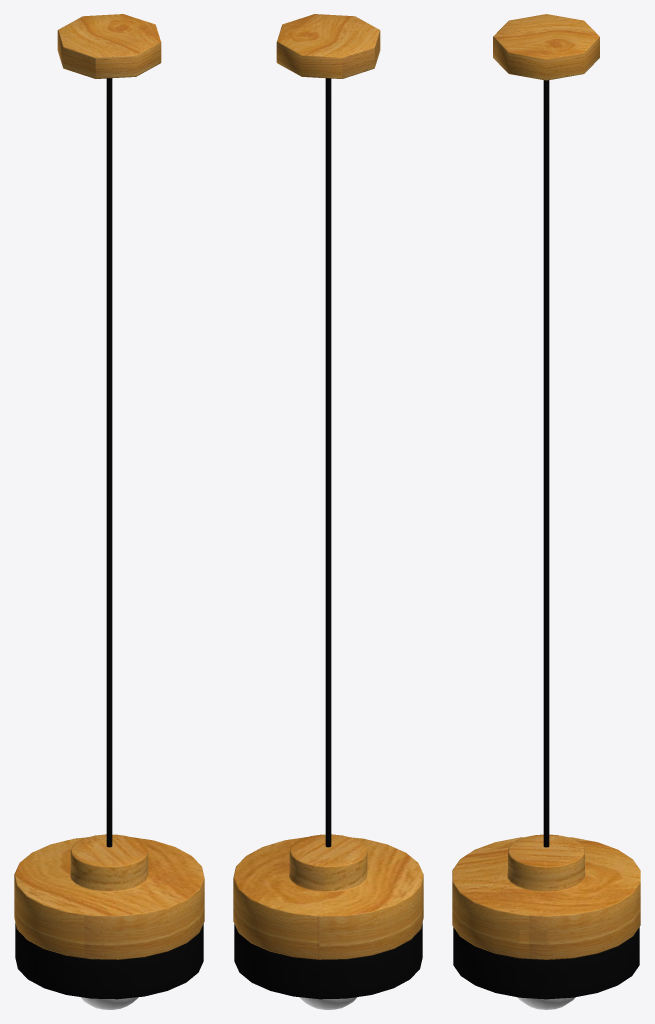
File: lampara.obj
3 renders of one model, left to right at view 1: azimuth 30°, elevation 25°; view 2: azimuth 150°, elevation 25°; view 3: azimuth 270°, elevation 25°, orthographic.
Visible parts, largest first — view 1: lampara_pendant_light_Wooden_LED_Cylinder002, lampara_pendant_light_Wooden_LED_Cylinder005, lampara_polySurface1pendant_light_Wooden_LED_Line015, lampara_pendant_light_Wooden_LED_Line013, lampara_pendant_light_Wooden_LED_Object010; view 2: lampara_pendant_light_Wooden_LED_Cylinder002, lampara_pendant_light_Wooden_LED_Cylinder005, lampara_polySurface1pendant_light_Wooden_LED_Line015, lampara_pendant_light_Wooden_LED_Line013, lampara_pendant_light_Wooden_LED_Object010; view 3: lampara_pendant_light_Wooden_LED_Cylinder002, lampara_pendant_light_Wooden_LED_Cylinder005, lampara_polySurface1pendant_light_Wooden_LED_Line015, lampara_pendant_light_Wooden_LED_Line013, lampara_pendant_light_Wooden_LED_Object010.
Boxes of the visible parts, x1,y1,x2,y2 form: lampara_pendant_light_Wooden_LED_Cylinder002: (14,834,204,959); lampara_pendant_light_Wooden_LED_Cylinder005: (15,923,203,999); lampara_polySurface1pendant_light_Wooden_LED_Line015: (57,14,161,78); lampara_pendant_light_Wooden_LED_Line013: (106,78,112,847); lampara_pendant_light_Wooden_LED_Object010: (80,997,138,1009); lampara_pendant_light_Wooden_LED_Cylinder002: (233,834,423,959); lampara_pendant_light_Wooden_LED_Cylinder005: (234,923,422,999); lampara_polySurface1pendant_light_Wooden_LED_Line015: (276,14,380,78); lampara_pendant_light_Wooden_LED_Line013: (325,78,331,847); lampara_pendant_light_Wooden_LED_Object010: (299,997,357,1009); lampara_pendant_light_Wooden_LED_Cylinder002: (452,834,640,959); lampara_pendant_light_Wooden_LED_Cylinder005: (453,927,639,999); lampara_polySurface1pendant_light_Wooden_LED_Line015: (493,14,599,80); lampara_pendant_light_Wooden_LED_Line013: (543,80,549,847); lampara_pendant_light_Wooden_LED_Object010: (517,997,575,1009).
Bounding box in the file's own units: 1.35 × 7.56 × 1.33.
